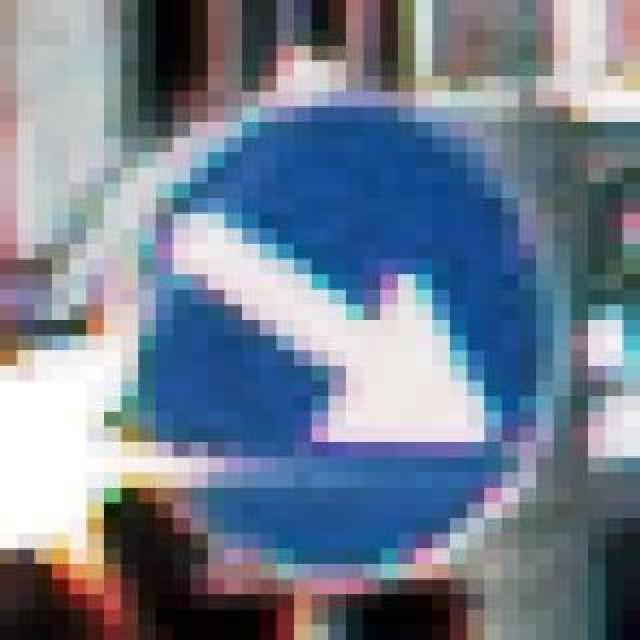keep right: (70, 60, 554, 564)
